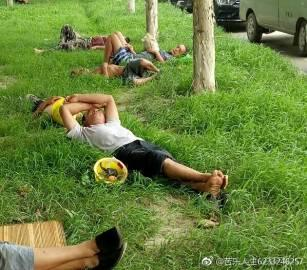fall: (55, 21, 113, 54)
